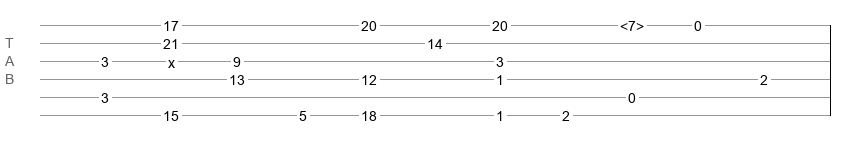0: (628, 90, 636, 100), (694, 18, 702, 28)
1: (496, 72, 504, 82), (496, 108, 504, 118)
12: (361, 72, 377, 82)
13: (229, 72, 245, 82)
14: (427, 36, 443, 46)
15: (163, 108, 179, 118)
17: (163, 18, 179, 28)
18: (361, 108, 377, 118)
2: (562, 108, 570, 118), (760, 72, 768, 82)
20: (361, 18, 377, 28), (492, 18, 508, 28)
21: (163, 36, 179, 46)
3: (101, 90, 109, 100), (101, 54, 109, 64), (496, 54, 504, 64)
5: (299, 108, 307, 118)
9: (233, 54, 241, 64)
harmonic: (620, 18, 644, 28)
x: (168, 55, 175, 63)
